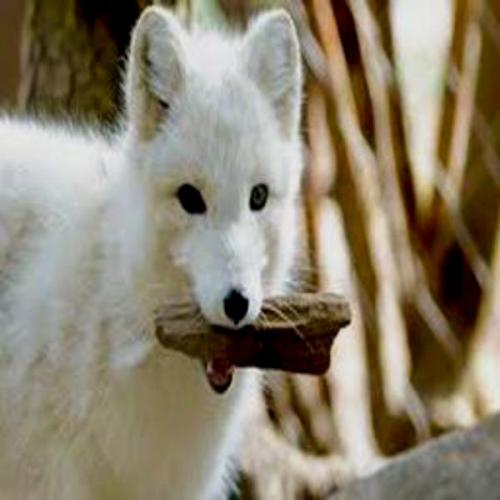arctic_fox-endangered: (0, 5, 300, 500)
